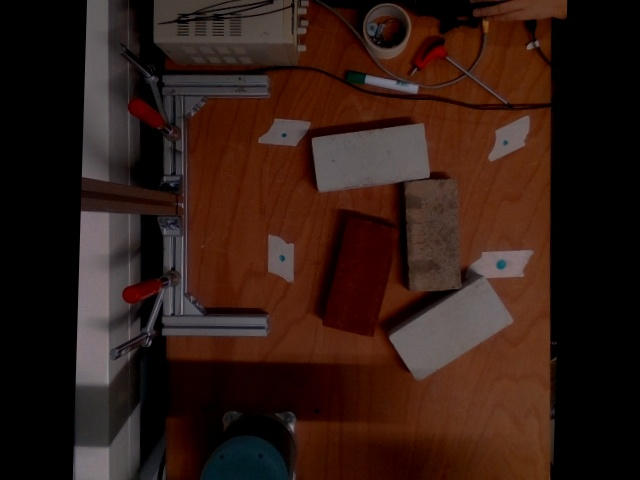brick: (390, 277, 511, 381), (320, 219, 400, 338), (312, 122, 428, 190), (405, 178, 463, 289)
